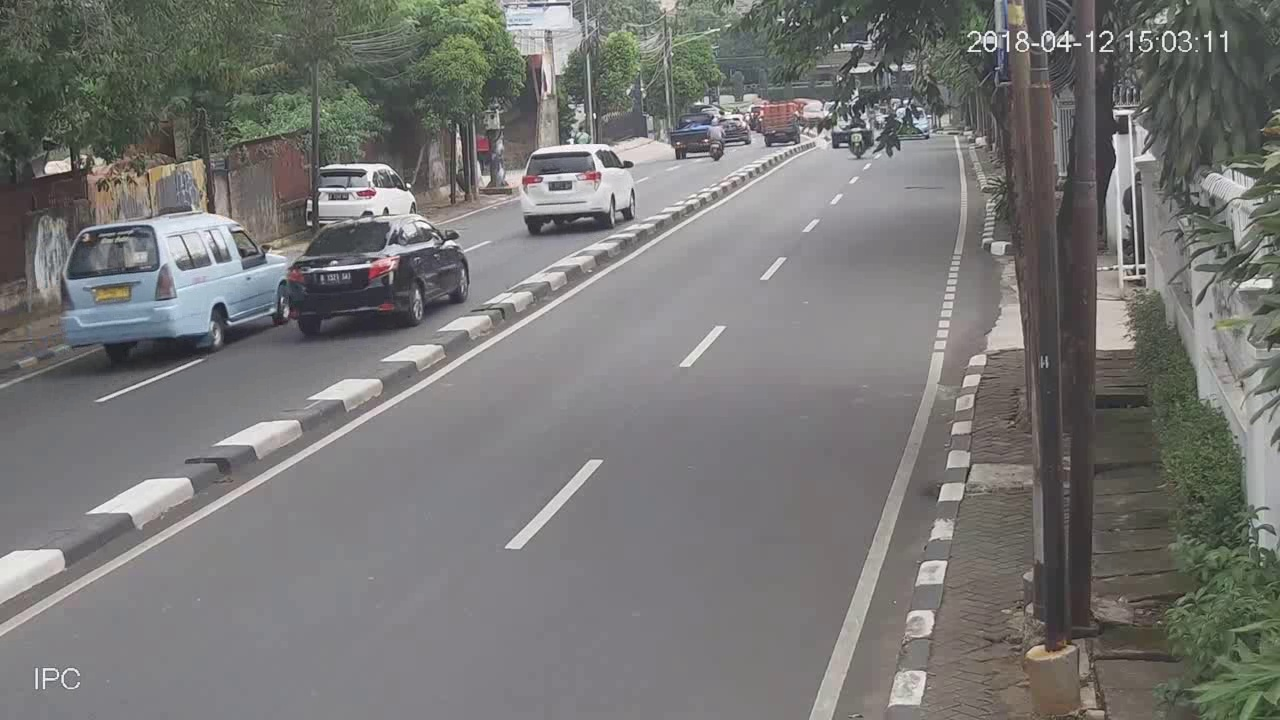car: (52, 208, 285, 361), (281, 212, 472, 335), (516, 142, 640, 235), (304, 160, 417, 215)
